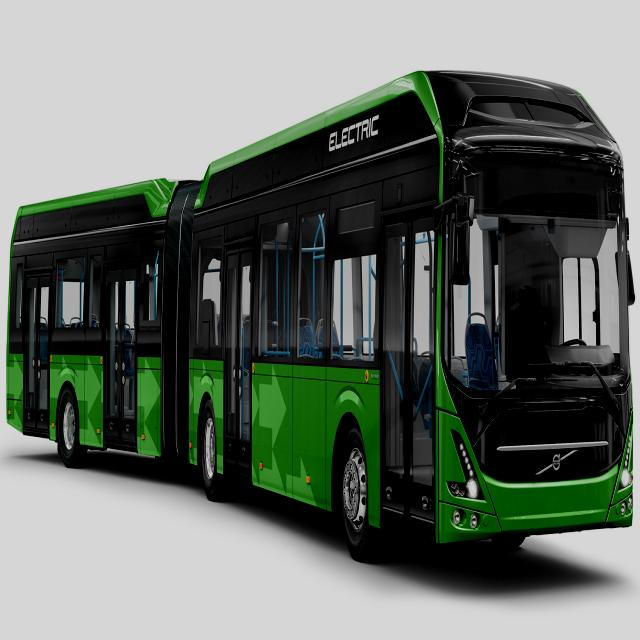BUS: (4, 92, 632, 558)
